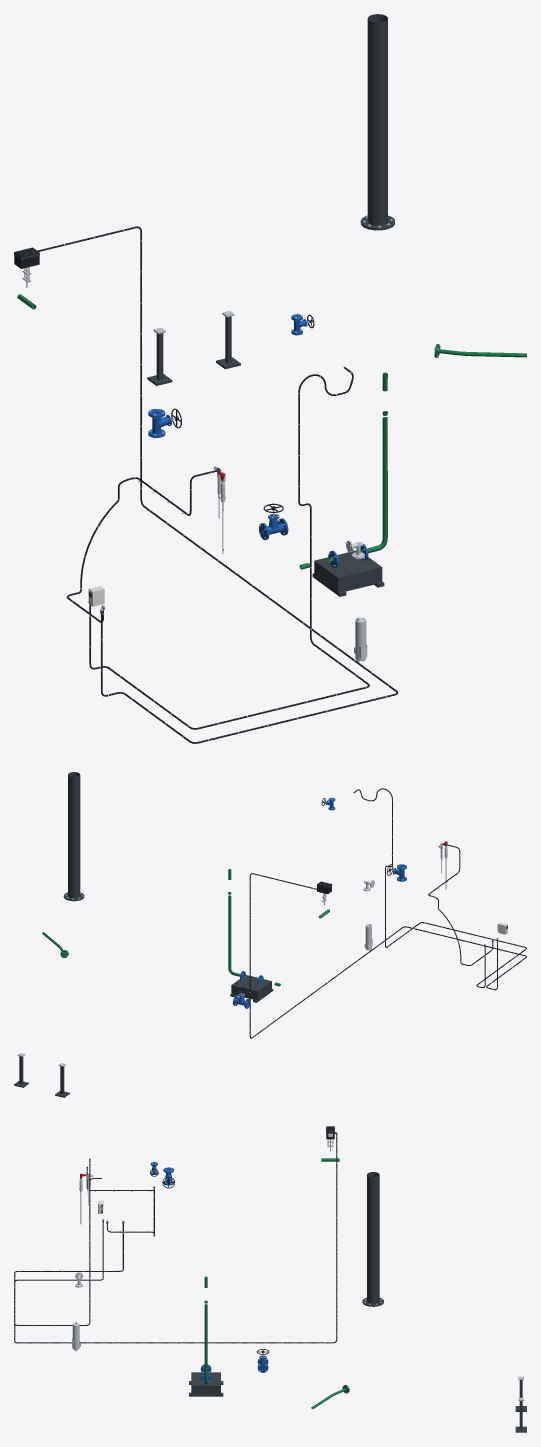
File: s4000-3-w0_gmBam.glb
The picture shows the model from 3 angles, top to bottom: view 1: azimuth 30°, elevation 25°; view 2: azimuth 150°, elevation 25°; view 3: azimuth 270°, elevation 25°; orthographic projection. The views are drawn at different scales.
Visible parts, largest first — view 1: bdv_vent / dark, mod_eco_drive_cable / black, pump_branch_1 / dark, wiring_pressure_switch_3 / black, pump_branch_1 / green, trap_support / dark; view 2: bdv_vent / dark, mod_eco_drive_cable / black, pump_branch_1 / dark, wiring_pressure_switch_3 / black, pump_branch_1 / green, trap_support / dark; view 3: bdv_vent / dark, mod_eco_drive_cable / black, wiring_pressure_switch_3 / black, pump_branch_1 / dark, pump_branch_1 / green.
Part boxes in pixels (x1=…): bdv_vent / dark: x1=360, y1=14, x2=394, y2=230; mod_eco_drive_cable / black: x1=37, y1=226, x2=398, y2=743; pump_branch_1 / dark: x1=312, y1=550, x2=384, y2=596; wiring_pressure_switch_3 / black: x1=89, y1=367, x2=369, y2=729; pump_branch_1 / green: x1=299, y1=372, x2=387, y2=569; trap_support / dark: x1=147, y1=316, x2=240, y2=385; bdv_vent / dark: x1=63, y1=772, x2=84, y2=901; mod_eco_drive_cable / black: x1=249, y1=873, x2=526, y2=1038; pump_branch_1 / dark: x1=230, y1=975, x2=273, y2=1002; wiring_pressure_switch_3 / black: x1=353, y1=788, x2=526, y2=987; pump_branch_1 / green: x1=228, y1=869, x2=280, y2=986; trap_support / dark: x1=14, y1=1056, x2=69, y2=1097; bdv_vent / dark: x1=362, y1=1172, x2=383, y2=1306; mod_eco_drive_cable / black: x1=14, y1=1133, x2=337, y2=1343; wiring_pressure_switch_3 / black: x1=14, y1=1158, x2=123, y2=1325; pump_branch_1 / dark: x1=189, y1=1372, x2=223, y2=1396; pump_branch_1 / green: x1=204, y1=1276, x2=207, y2=1384.
Size of the model in its own units: 5.76 by 3.85 by 6.75.
